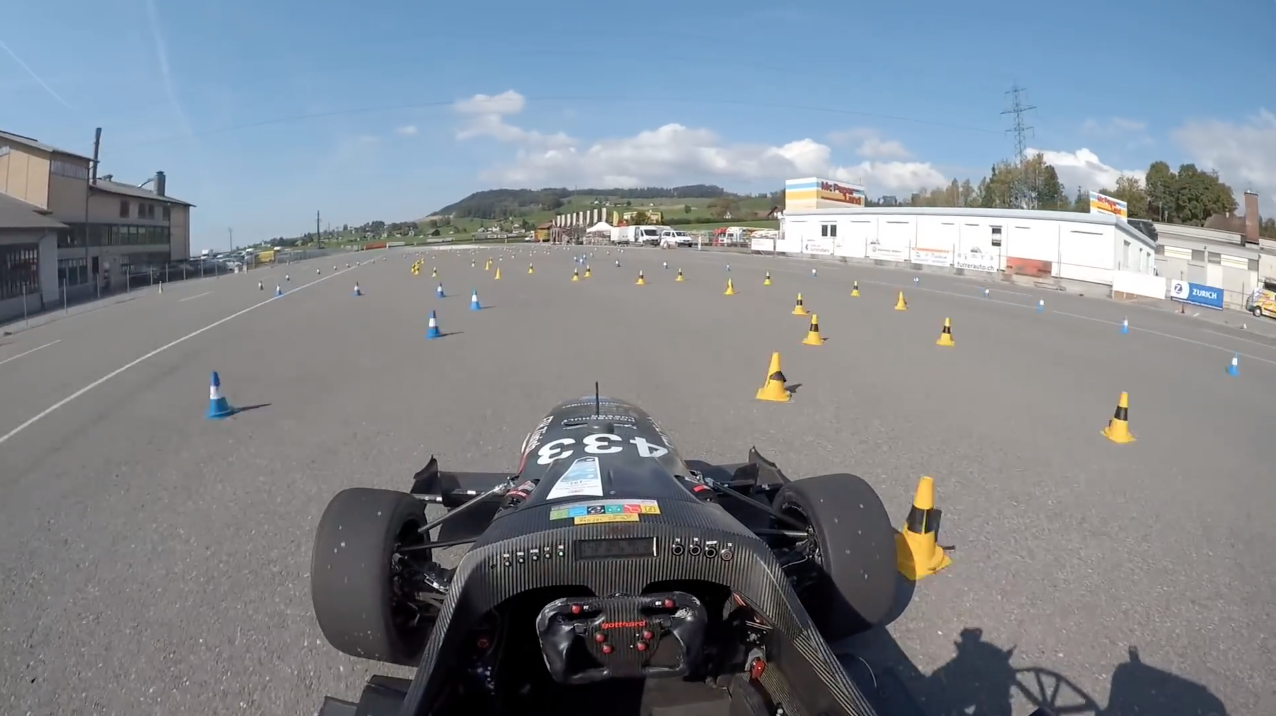lcone: (201, 368, 238, 424), (421, 307, 446, 339), (467, 287, 485, 311)
rcone: (880, 471, 956, 583), (1094, 388, 1144, 449), (751, 349, 795, 407), (801, 311, 829, 350), (934, 314, 957, 348), (789, 290, 809, 318)
